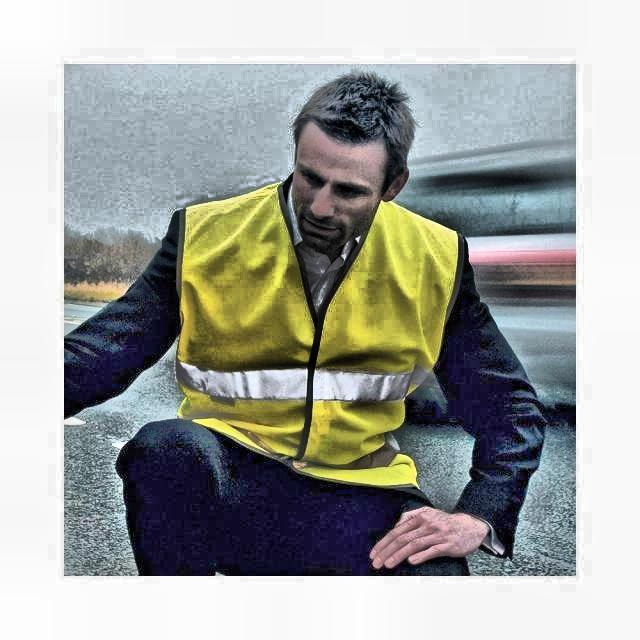safety_jacket: (166, 191, 454, 474)
